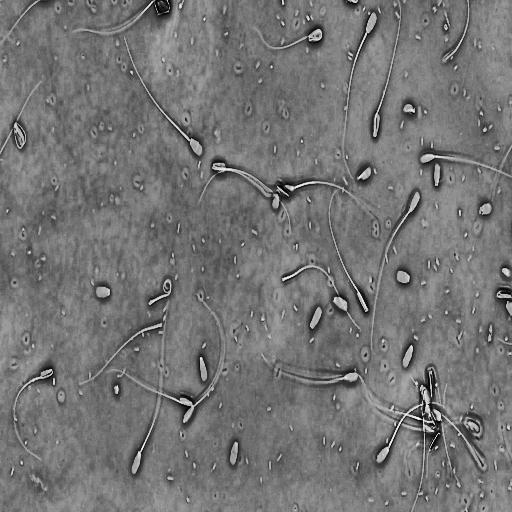coiled-tail: (14, 122, 26, 149), (428, 366, 436, 402), (14, 123, 25, 146)
folded-tail: (212, 166, 290, 232), (329, 190, 368, 310), (374, 1, 401, 134), (14, 370, 53, 460), (108, 369, 193, 407), (433, 408, 483, 465)
loose-head: (306, 297, 326, 337), (90, 276, 117, 305), (459, 412, 486, 439), (476, 192, 496, 223), (330, 291, 352, 318), (394, 266, 413, 293), (197, 354, 212, 388), (401, 339, 416, 373), (226, 436, 241, 469), (432, 158, 443, 196), (356, 164, 373, 183), (419, 383, 433, 405), (402, 101, 416, 118)
loose-tail: (278, 261, 363, 336), (77, 318, 164, 389), (282, 265, 360, 329), (444, 2, 470, 62), (147, 277, 174, 308), (149, 279, 172, 306)
normal: (120, 27, 206, 164), (370, 185, 423, 357), (127, 290, 170, 479), (340, 7, 381, 190), (210, 157, 294, 237), (325, 183, 373, 318), (181, 291, 227, 427), (374, 399, 457, 468), (283, 179, 382, 230), (367, 4, 401, 146), (12, 364, 58, 468), (254, 347, 362, 390), (102, 366, 193, 409), (432, 406, 486, 471), (415, 146, 511, 181), (247, 20, 326, 52), (12, 120, 28, 153)
